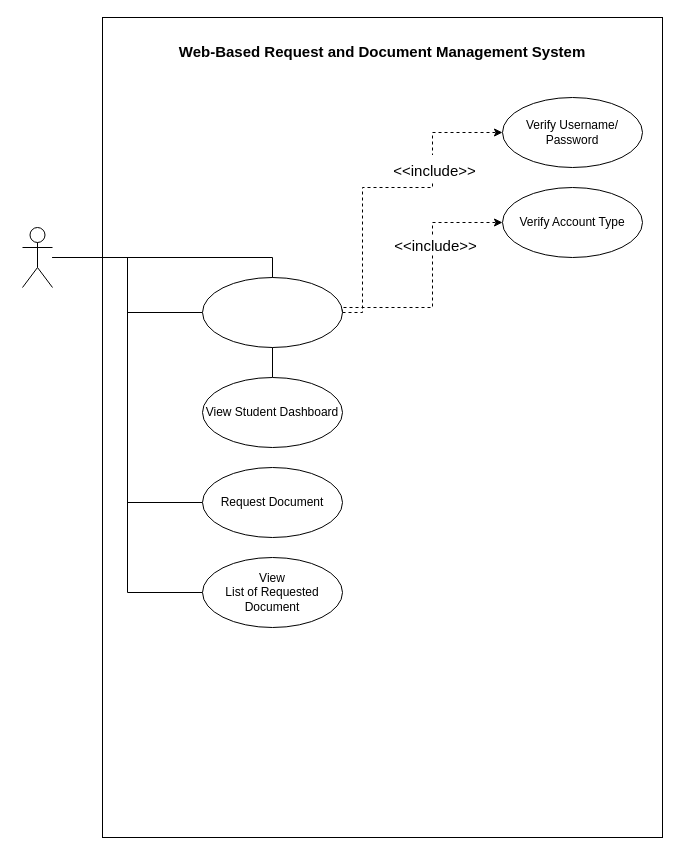
Image size: 680x855. Some labels were removed from this diagram. The centre of each missing label's shape, as x and y in pixels:
Login: (272,312)
Student: (37,257)
